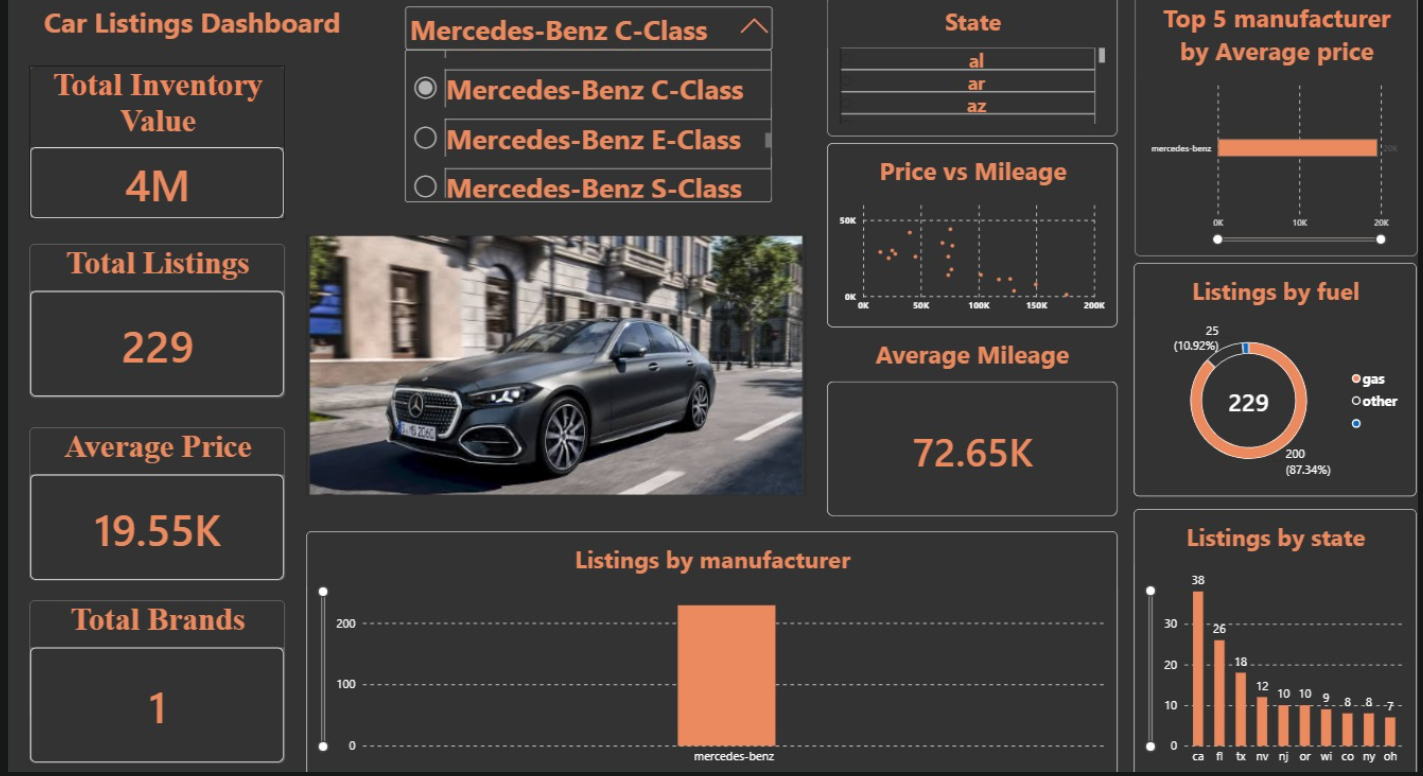

What the dashboard file says about the page in this screenshot:
{"tool":"powerbi","page":{"name":"Page 1","canvas":[1920,1080],"ordinal":0},"visuals":[{"type":"cardVisual","title":"Total Inventory Value","fields":{"Data":["Sum(cars_sample_80k_updated.price)"]},"box":[33.1,109.4,346.9,208.7],"z":0},{"type":"cardVisual","title":"Average Price","fields":{"Data":["Avg(cars_sample_80k_updated.price)"]},"box":[33.1,600.2,347,208.2],"z":1000},{"type":"cardVisual","title":"Total Brands","fields":{"Data":["Count(cars_sample_80k_updated.manufacturer)"]},"box":[33.1,834.8,347,221.4],"z":2000},{"type":"cardVisual","title":"Total Listings","fields":{"Data":["CountNonNull(cars_sample_80k_updated.price)"]},"box":[33.1,351.2,346.9,208.7],"z":3000},{"type":"slicer","fields":{"Values":["cars_sample_80k_updated.matched_car_name"]},"box":[538.3,24.5,508.1,132.4],"z":4000},{"type":"image","box":[408.8,339.7,677.9,352.6],"z":5000},{"type":"textbox","box":[47.5,24.5,413.1,61.9],"z":6000},{"type":"clusteredBarChart","title":"Top 5 manufacturer by Average price","fields":{"Category":["cars_sample_80k_updated.manufacturer"],"Y":["Avg(cars_sample_80k_updated.price)"]},"box":[1532.8,7.2,384.3,361.3],"z":7000},{"type":"donutChart","title":"Listings by fuel","fields":{"Category":["cars_sample_80k_updated.fuel"],"Y":["CountNonNull(cars_sample_80k_updated.price)"]},"box":[1531.4,377.1,384.3,316.6],"z":8000},{"type":"clusteredColumnChart","title":"Listings by state","fields":{"Category":["cars_sample_80k_updated.state"],"Y":["CountNonNull(cars_sample_80k_updated.price)"]},"box":[1531.4,711,384.3,368.5],"z":9000},{"type":"clusteredColumnChart","title":"Listings by manufacturer","fields":{"Category":["cars_sample_80k_updated.manufacturer"],"Y":["CountNonNull(cars_sample_80k_updated.price)"]},"box":[408.8,741.2,1101,338.2],"z":10000},{"type":"listSlicer","title":"State","fields":{"Values":["cars_sample_80k_updated.state"]},"box":[1115.4,11.5,394.4,194.3],"z":11000},{"type":"scatterChart","title":"Price vs Mileage","fields":{"Category":["cars_sample_80k_updated.model"],"X":["Avg(cars_sample_80k_updated.odometer)"],"Y":["Avg(cars_sample_80k_updated.price)"]},"box":[1115.4,214.5,394.4,250.4],"z":12000},{"type":"cardVisual","title":"Average Mileage","fields":{"Data":["Avg(cars_sample_80k_updated.odometer)"]},"box":[1115.4,477.8,394.4,243.2],"z":13000}]}

Visuals, with their boxes on the page's 1920x1080 design canvas (x1, y1, x2, y2). These are canvas units, not pixel positions in the 1423x776 screenshot, which may show the page scaled, cropped or inside an application window:
"Total Inventory Value" cardVisual: (x1=33, y1=109, x2=380, y2=318)
"Average Price" cardVisual: (x1=33, y1=600, x2=380, y2=808)
"Total Brands" cardVisual: (x1=33, y1=835, x2=380, y2=1056)
"Total Listings" cardVisual: (x1=33, y1=351, x2=380, y2=560)
slicer - cars_sample_80k_updated.matched_car_name: (x1=538, y1=24, x2=1046, y2=157)
image: (x1=409, y1=340, x2=1087, y2=692)
textbox: (x1=48, y1=24, x2=461, y2=86)
"Top 5 manufacturer by Average price" clusteredBarChart: (x1=1533, y1=7, x2=1917, y2=368)
"Listings by fuel" donutChart: (x1=1531, y1=377, x2=1916, y2=694)
"Listings by state" clusteredColumnChart: (x1=1531, y1=711, x2=1916, y2=1080)
"Listings by manufacturer" clusteredColumnChart: (x1=409, y1=741, x2=1510, y2=1079)
"State" listSlicer: (x1=1115, y1=12, x2=1510, y2=206)
"Price vs Mileage" scatterChart: (x1=1115, y1=214, x2=1510, y2=465)
"Average Mileage" cardVisual: (x1=1115, y1=478, x2=1510, y2=721)
